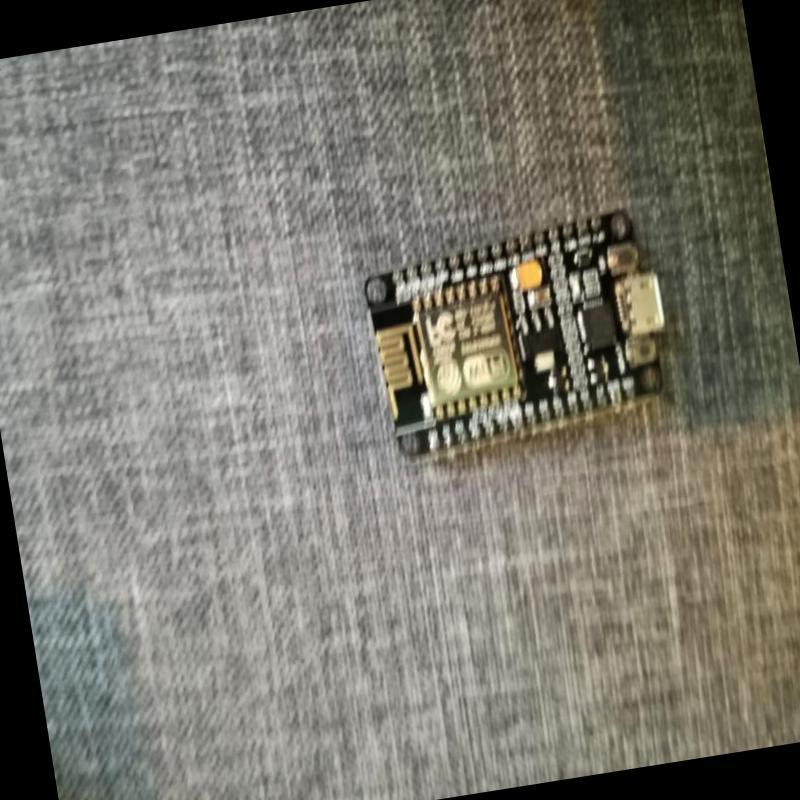ESP8266: (347, 193, 688, 477)
